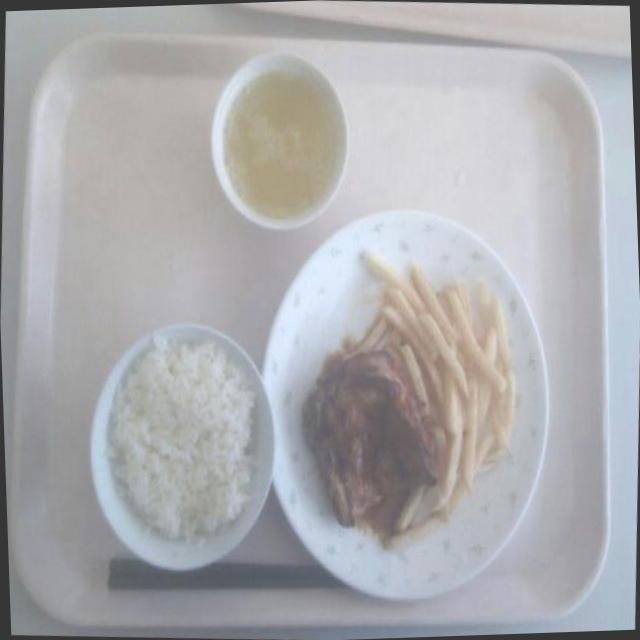Rice: (96, 333, 268, 541)
